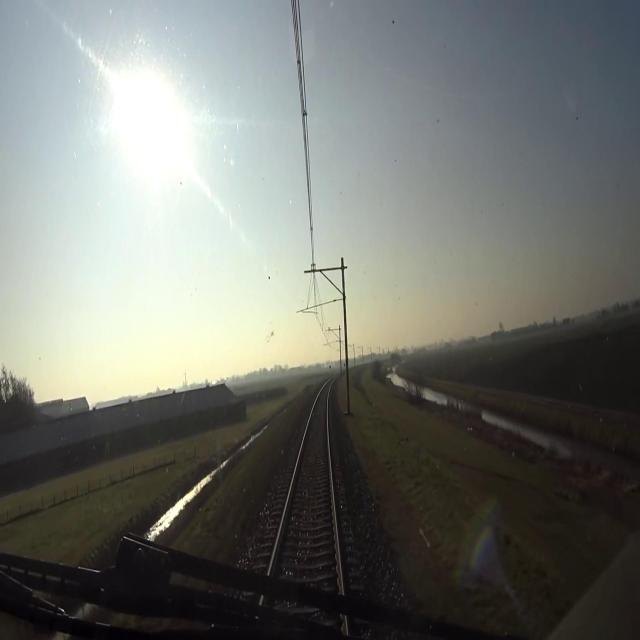rail-track: (271, 385, 340, 599)
